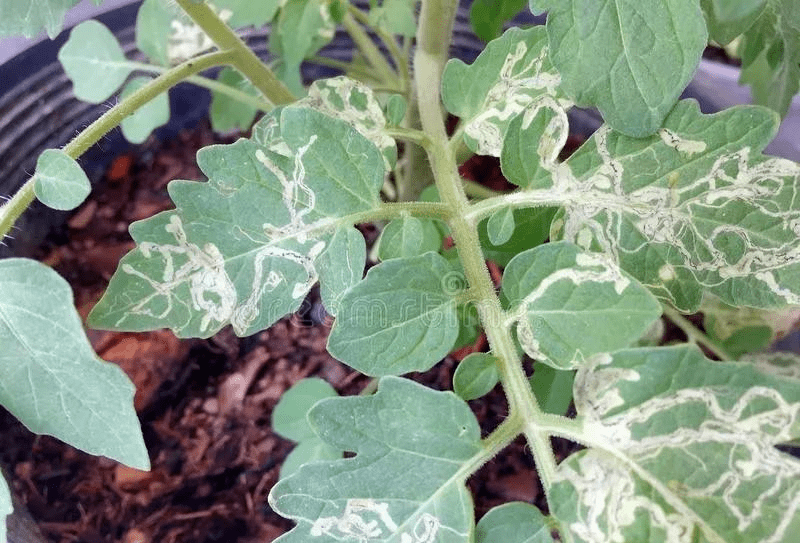liriomyza: (515, 95, 800, 314), (562, 349, 800, 543), (115, 133, 325, 337), (509, 249, 630, 371), (459, 37, 575, 157), (292, 76, 396, 174), (308, 493, 440, 543), (164, 2, 233, 66)
